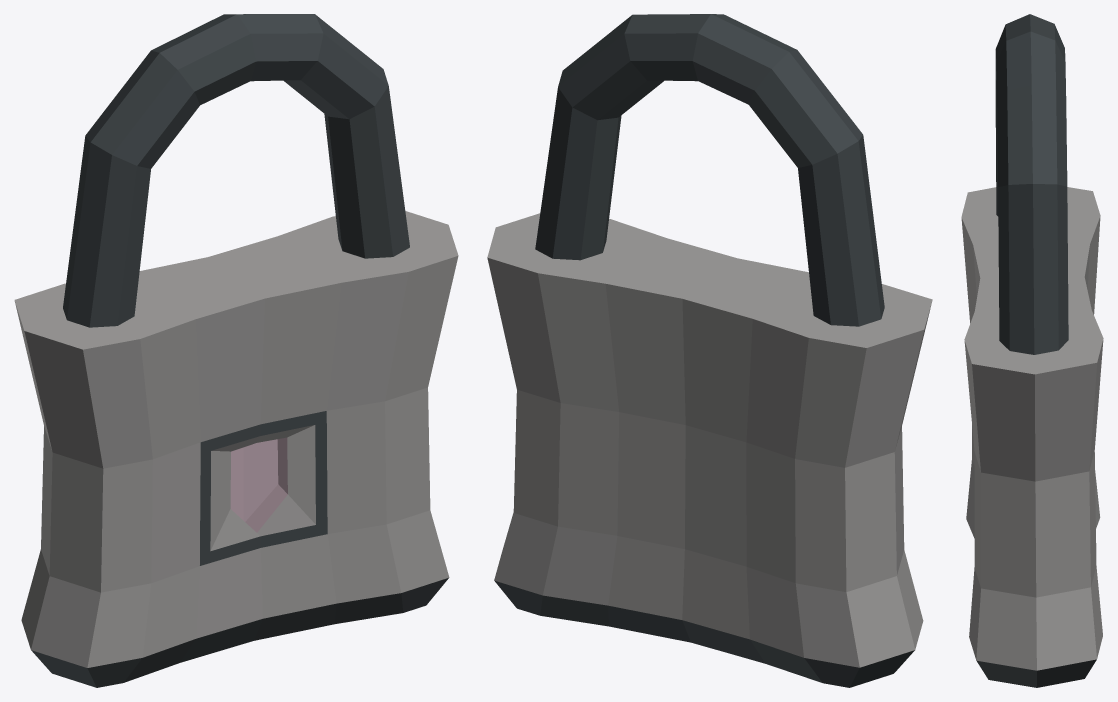
File: ChestV1_Lock.glb
3 renders of one model, left to right at view 1: azimuth 30°, elevation 25°; view 2: azimuth 150°, elevation 25°; view 3: azimuth 270°, elevation 25°, orthographic. The views are drawn at different scales.
Visible parts, largest first — view 1: ChestV1_Lock; view 2: ChestV1_Lock; view 3: ChestV1_Lock.
Part boxes in pixels (x1,y1,x2,y2): ChestV1_Lock: [14, 14, 458, 687]; ChestV1_Lock: [487, 14, 932, 687]; ChestV1_Lock: [961, 14, 1103, 687].
Size of the model in its own units: 11.27 by 15.53 by 3.49.
Materials: 1 (1 with a texture image).
